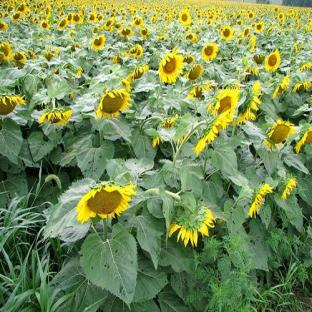sunflower: (75, 185, 137, 309)
